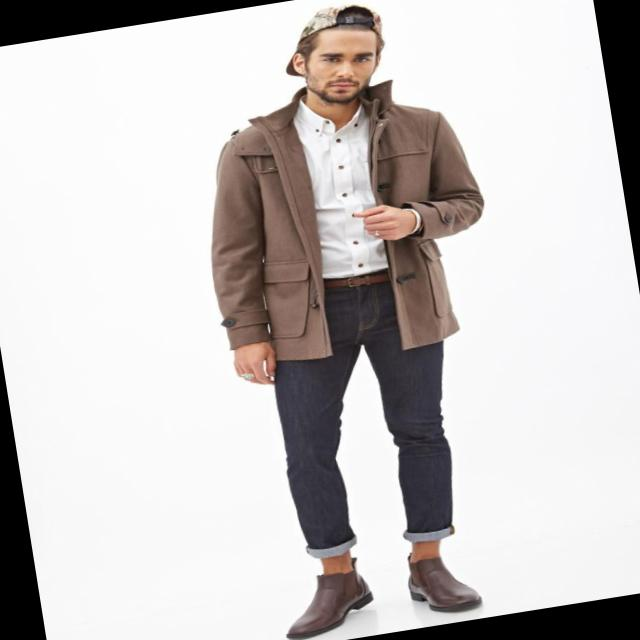Jacket: (191, 91, 505, 376)
